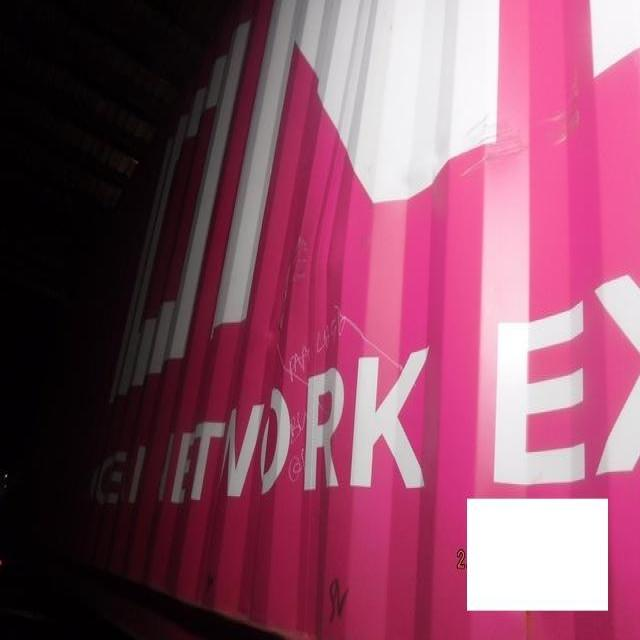dent: (260, 111, 387, 355)
